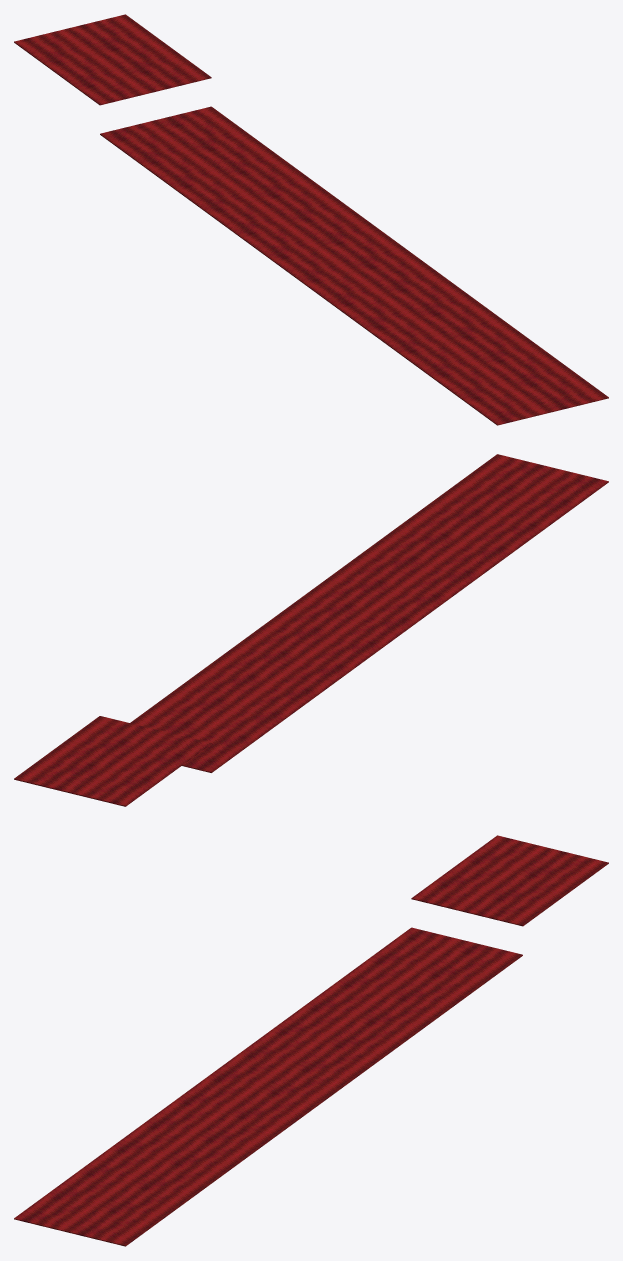
The model's file is alfombra.obj.
3 views of the same model, one above another, from view 1: azimuth 30°, elevation 25°; view 2: azimuth 150°, elevation 25°; view 3: azimuth 330°, elevation 25° (orthographic).
Parts seen in each view (by area): view 1: alfombra; view 2: alfombra; view 3: alfombra.
Boxes of the visible parts, x1,y1,x2,y2 form: alfombra: [14, 14, 608, 425]; alfombra: [14, 454, 608, 806]; alfombra: [14, 835, 608, 1246].
Size of the model in its own units: 1.2 by 0.31 by 9.
1 material, 1 textured.
